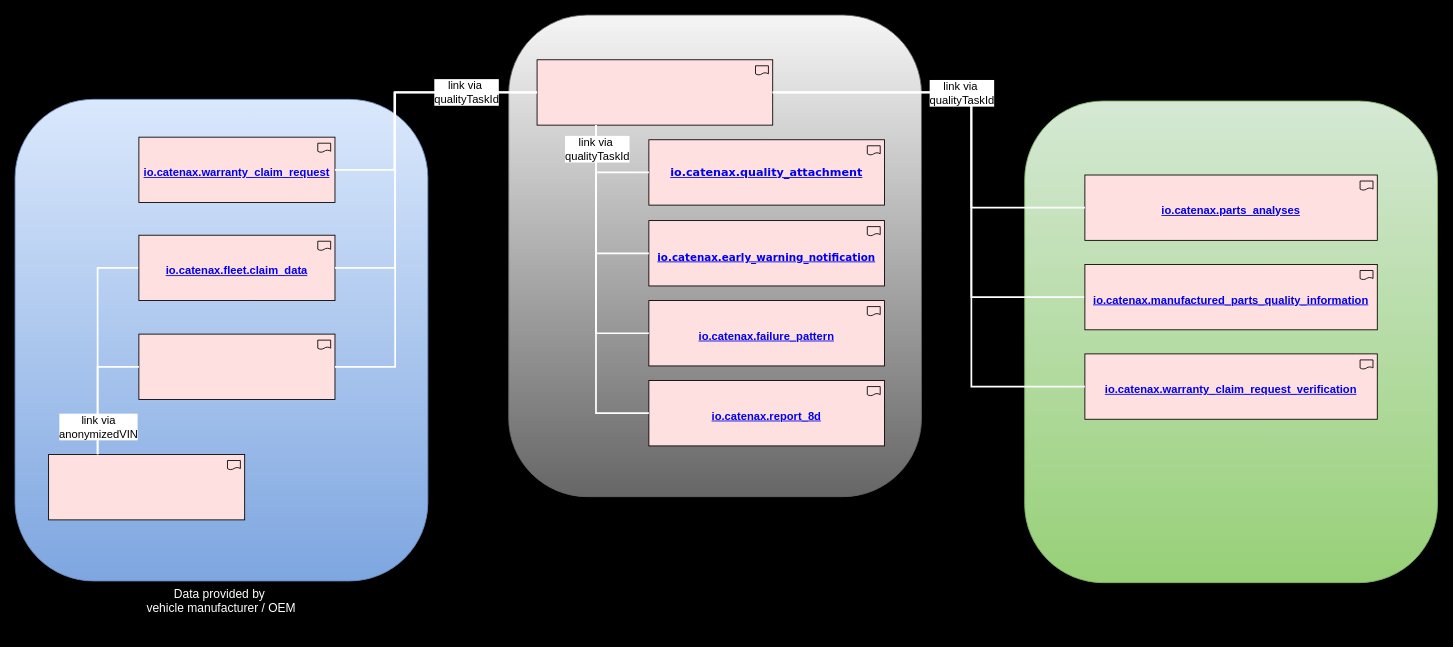
Some shapes in this 1453 by 647 pixel diagram are drawn without their labels. The box of each missing label's shape, as (x1, y1, x2, y2) in pixels:
Data provided by OEM, supplier or other Catena-X company: (508, 14, 921, 497)
Data provided by supplier or other Catena-X company along the supply chain: (1024, 100, 1437, 583)
io.catenax.fleet.diagnostic_data: (138, 333, 335, 399)
io.catenax.fleet.vehicles: (48, 454, 245, 520)
io.catenax.quality_task: (536, 59, 773, 125)
